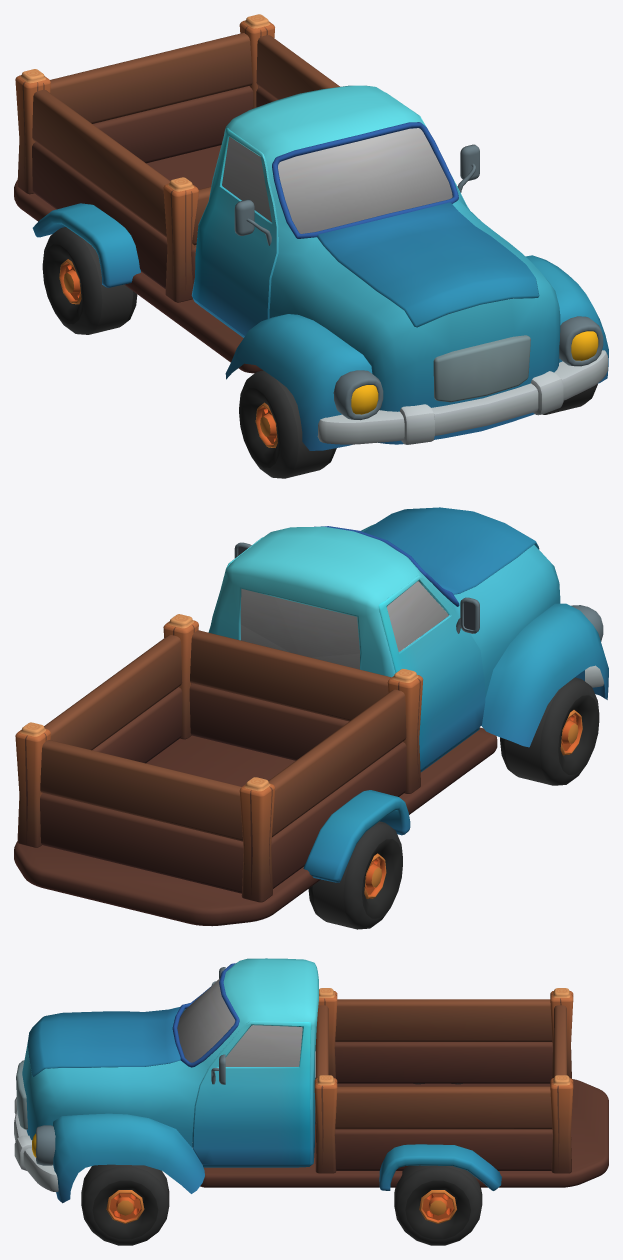
File: Car1.fbx
The picture shows the model from 3 angles, top to bottom: view 1: azimuth 30°, elevation 25°; view 2: azimuth 150°, elevation 25°; view 3: azimuth 270°, elevation 25°; orthographic projection. The views are drawn at different scales.
Visible parts, largest first — view 1: Cube, Cube.006, Cube.008, Cube.001, Cube.002, Cube.007, Cylinder.070, Circle, Circle.001, Cube.003, Cube.009, Cube.004 (+1 smaller); view 2: Cube.006, Cube, Cube.003, Cylinder.070, Cube.002, Cube.008, Circle, Circle.001, Cube.005, Cube.009, Cube.004; view 3: Cube.006, Cube, Cube.002, Cube.003, Cube.008, Circle, Circle.001, Cylinder.070, Cube.001, Cube.005, Cube.007, Cube.009 (+1 smaller).
Part boxes in pixels (box(x1,y1,x2,y2)): Cube: box(32, 85, 608, 450); Cube.006: box(32, 33, 339, 288); Cube.008: box(317, 202, 539, 327); Cube.001: box(278, 128, 452, 233); Cube.002: box(192, 92, 469, 336); Cube.007: box(317, 350, 607, 444); Cylinder.070: box(15, 14, 274, 302); Circle: box(239, 370, 597, 478); Circle.001: box(42, 227, 137, 334); Cube.003: box(14, 145, 262, 373); Cube.009: box(234, 144, 603, 420); Cube.004: box(272, 122, 458, 238); Cube.006: box(40, 630, 406, 893); Cube: box(209, 524, 608, 882); Cube.003: box(14, 727, 497, 926); Cylinder.070: box(15, 614, 423, 902); Cube.002: box(208, 537, 485, 769); Cube.008: box(364, 507, 539, 594); Circle: box(500, 677, 599, 785); Circle.001: box(308, 821, 402, 929); Cube.005: box(387, 581, 448, 651); Cube.009: box(234, 542, 603, 641); Cube.004: box(314, 526, 459, 606); Cube.006: box(315, 999, 566, 1170); Cube: box(16, 958, 501, 1203); Cube.002: box(192, 1021, 311, 1164); Cube.003: box(200, 1078, 608, 1187); Cube.008: box(27, 1006, 180, 1076); Circle: box(81, 1164, 169, 1245); Circle.001: box(394, 1083, 482, 1245); Cylinder.070: box(314, 988, 573, 1173); Cube.001: box(177, 978, 235, 1062); Cube.005: box(225, 1025, 302, 1066); Cube.007: box(14, 1097, 58, 1191); Cube.009: box(32, 967, 225, 1165).
Bounding box in the file's own units: 2.24 × 1.77 × 4.54.
